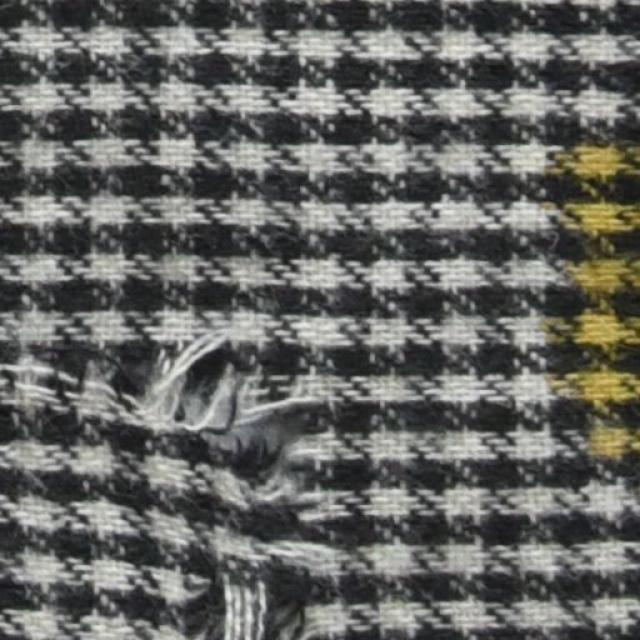Snag: (11, 320, 357, 639)
Stain: (549, 119, 639, 492)
